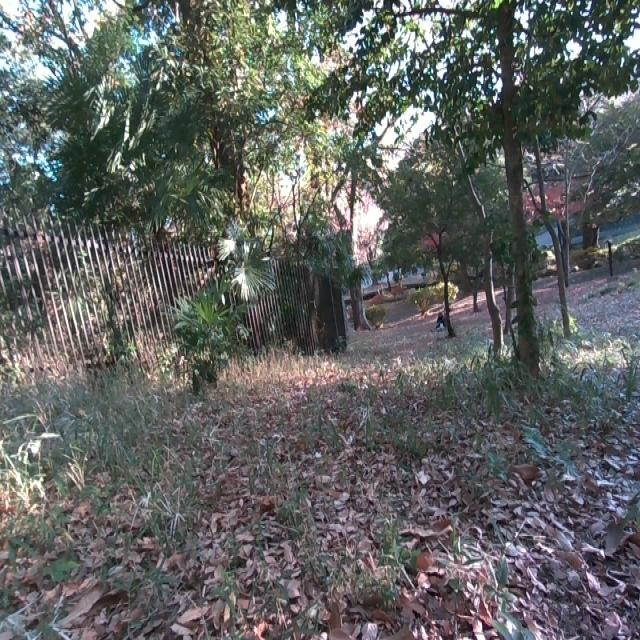artifact: (0, 201, 352, 384)
bush: (163, 259, 254, 393)
tree: (467, 0, 557, 391), (427, 72, 509, 364), (527, 115, 578, 354)
